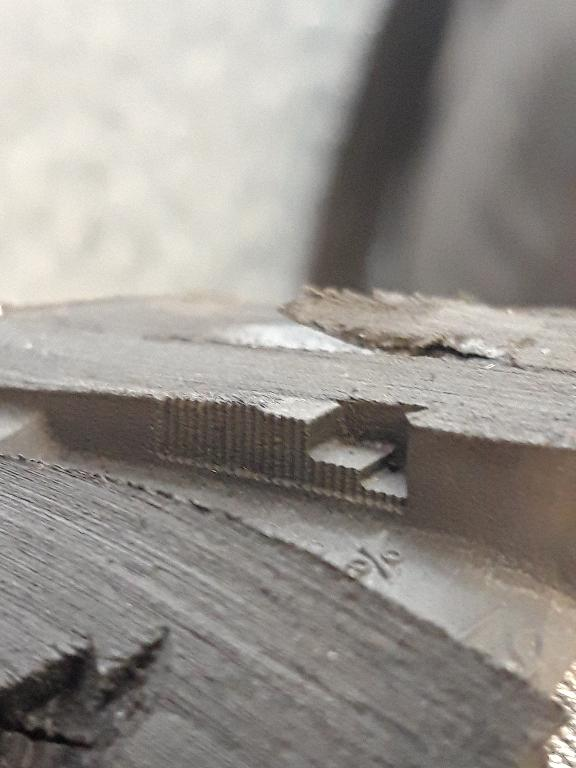temoin:50: (238, 383, 435, 525)
